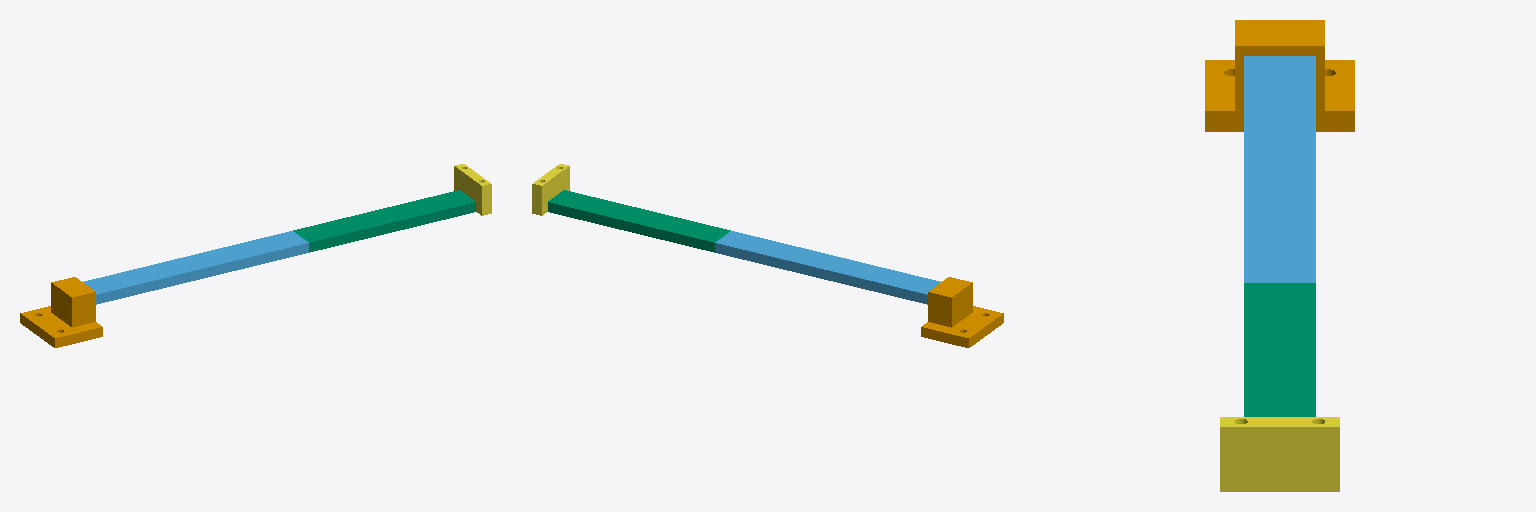
The robot description file, URDF, robot "inspection_arm":
<?xml version='1.0' encoding='utf-8'?>
<robot name="inspection_arm">
  <link name="base">
    <inertial>
      <origin xyz="-0.015076549616679473 -1.3538715576029363e-19 0.003674917339993412" />
      <mass value="0.08105364168007238" />
      <inertia ixx="1.8921345321497184e-05" iyy="1.614468746773415e-05" izz="2.0525965769036775e-05" ixy="3.602261474213703e-22" ixz="-3.1580199855439633e-06" iyz="-1.0325281848996201e-22" />
    </inertial>
    <visual>
      <geometry>
        <mesh filename="base.stl" scale=".001 .001 .001" />
      </geometry>
    </visual>
  </link>
  <link name="first">
    <inertial>
      <origin xyz="0.09 0.0 0.004" />
      <mass value="0.093312" />
      <inertia ixx="4.976639999999999e-06" iyy="0.000252440064" izz="0.00025642137599999996" ixy="4.661870889322017e-23" ixz="0.0" iyz="0.0" />
    </inertial>
    <visual>
      <geometry>
        <mesh filename="first.stl" scale=".001 .001 .001" />
      </geometry>
    </visual>
  </link>
  <link name="second">
    <inertial>
      <origin xyz="0.07 1.1419436824715894e-19 0.004" />
      <mass value="0.072576" />
      <inertia ixx="3.87072e-06" iyy="0.000118927872" izz="0.000122024448" ixy="5.640288236463682e-23" ixz="0.0" iyz="-4.3620852615101066e-39" />
    </inertial>
    <visual>
      <geometry>
        <mesh filename="second.stl" scale=".001 .001 .001" />
      </geometry>
    </visual>
  </link>
  <link name="tool">
    <inertial>
      <origin xyz="0.003999999999999994 -1.3149461067349003e-19 0.011999999999999999" />
      <mass value="0.018674801059979675" />
      <inertia ixx="3.3102391251071323e-06" iyy="1.0043737459705634e-06" izz="2.521831969319643e-06" ixy="9.822542779147637e-24" ixz="0.0" iyz="-9.82254277914762e-24" />
    </inertial>
    <visual>
      <geometry>
        <mesh filename="tool.stl" scale=".001 .001 .001" />
      </geometry>
    </visual>
  </link>
  <link name="payload">
    <inertial>
      <origin xyz=".02 0 .012" />
      <mass value=".2" />
      <inertia ixx="0.00003" iyy="0.00004" izz="0.00004" ixy="0" ixz="0" iyz="0" />
    </inertial>
  </link>
  <joint name="shoulder" type="revolute">
    <parent link="base" />
    <child link="first" />
    <origin xyz="0 0 .012" />
    <axis xyz="0 1 0" />
    <limit lower="-1.5" upper="1.5" effort="2" velocity="2" />
  </joint>
  <joint name="elbow" type="revolute">
    <parent link="first" />
    <child link="second" />
    <origin xyz=".18 0 0" />
    <axis xyz="0 1 0" />
    <limit lower="-1.5" upper="1.5" effort="2" velocity="2" />
  </joint>
  <joint name="tool_mount" type="fixed">
    <parent link="second" />
    <child link="tool" />
    <origin xyz=".14 0 0" />
  </joint>
  <joint name="payload_mount" type="fixed">
    <parent link="tool" />
    <child link="payload" />
    <origin xyz="0 0 0" />
  </joint>
</robot>

--- Facts derived from the render (not from the file) ---
The picture shows the robot from 3 angles, left to right: view 1: azimuth 30°, elevation 25°; view 2: azimuth 150°, elevation 25°; view 3: azimuth 270°, elevation 25°; orthographic projection.
Robot: inspection_arm — 5 links, 4 joints (2 revolute, 2 fixed); root link base; default pose: all joints at 0.
Visible links, largest first — view 1: first, second, base, tool; view 2: first, second, base, tool; view 3: first, second, tool, base.
Link boxes in pixels (left/top/right/bottom): first: left=83, top=231, right=308, bottom=304; second: left=293, top=190, right=475, bottom=252; base: left=20, top=277, right=102, bottom=347; tool: left=454, top=164, right=491, bottom=215; first: left=715, top=231, right=940, bottom=304; second: left=548, top=190, right=730, bottom=252; base: left=921, top=277, right=1003, bottom=347; tool: left=532, top=164, right=569, bottom=215; first: left=1244, top=56, right=1315, bottom=282; second: left=1244, top=283, right=1315, bottom=416; tool: left=1220, top=417, right=1339, bottom=491; base: left=1205, top=20, right=1354, bottom=131.
Bounding box of the posed robot: 0.368 × 0.05 × 0.044 m (x, y, z).
Meshes: 4 distinct files referenced, 4 mesh visuals loaded (4 binary STL).
